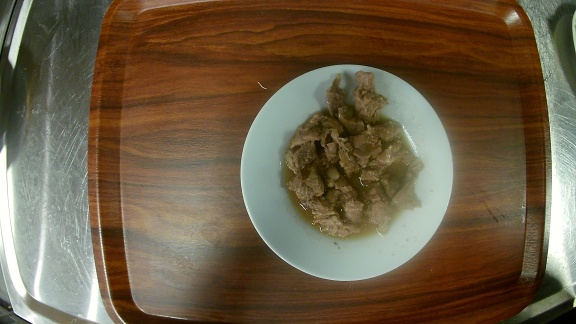etsote: (240, 62, 453, 283)
